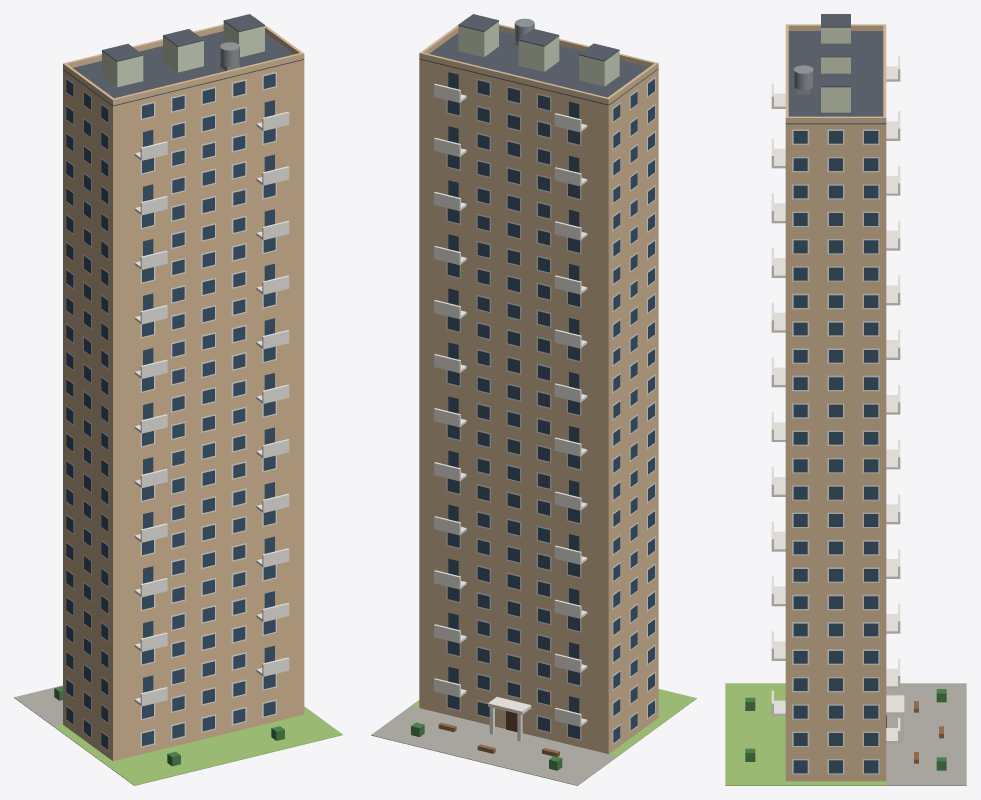
3 renders of one model, left to right at view 1: azimuth 30°, elevation 25°; view 2: azimuth 150°, elevation 25°; view 3: azimuth 270°, elevation 25°, orthographic.
Parts seen in each view (by area): view 1: wall, lawn, roof, lift_room (×3), parapet (×2), paving; view 2: wall, paving, roof, lift_room (×3), parapet (×2), lawn; view 3: wall, paving, roof (×3), lawn, lift_room (×3), parapet (×2), water_tank.
Boxes of the visible parts, x1,y1,x2,y2 form: wall: [63, 60, 304, 761]; lawn: [54, 706, 342, 785]; roof: [63, 31, 304, 106]; lift_room (×3): [102, 21, 264, 87]; parapet (×2): [63, 17, 304, 105]; paving: [14, 685, 62, 726]; wall: [419, 59, 658, 754]; paving: [371, 706, 617, 785]; roof: [419, 31, 658, 105]; lift_room (×3): [458, 21, 619, 86]; parapet (×2): [419, 17, 658, 104]; lawn: [411, 689, 696, 756]; wall: [785, 124, 886, 781]; paving: [886, 683, 966, 785]; roof (×3): [785, 31, 886, 124]; lawn: [725, 683, 886, 785]; lift_room (×3): [821, 27, 850, 112]; parapet (×2): [788, 24, 883, 123]; water_tank: [793, 65, 813, 90].
Size of the model in its own units: 24 by 75.06 by 24.
